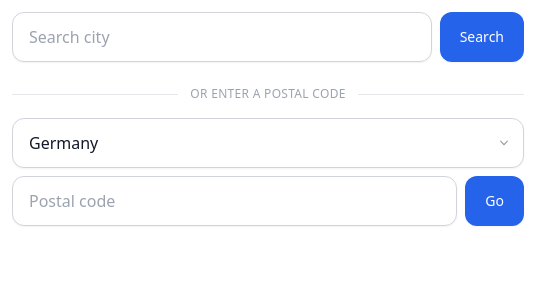
LocationSearch › shows error state for API failures
Type "Toronto" into the field with placeholder "Search city" at (222,37), box x1=12 y1=12 x2=432 y2=62
Then press Enter
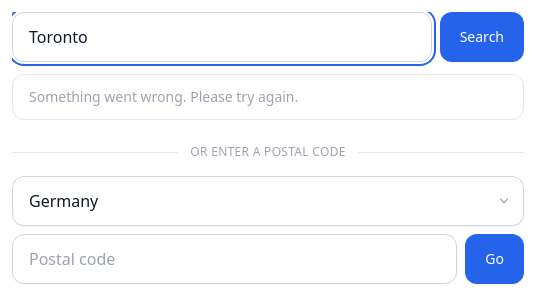
Now the list item "Something went wrong. Please try again." is shown, box x1=29 y1=87 x2=298 y2=106
